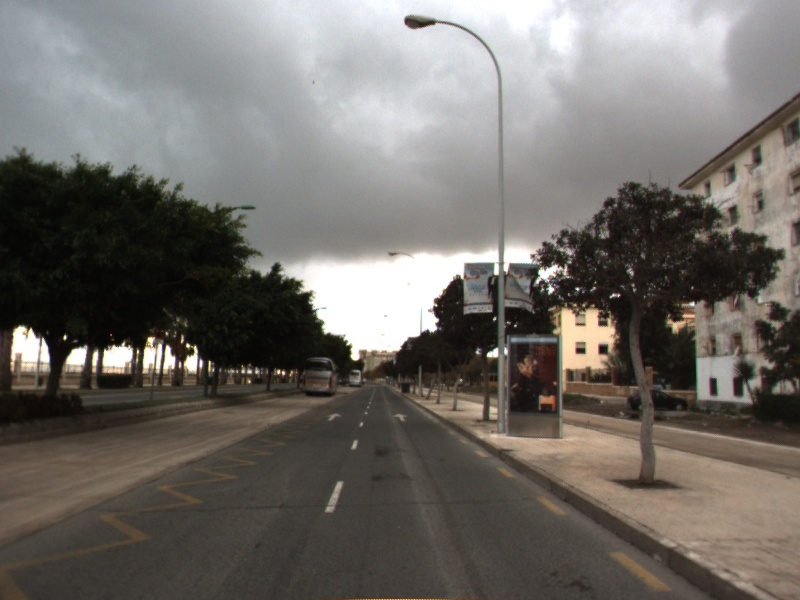STRAIGHT: (323, 411, 346, 423), (391, 411, 411, 424)
